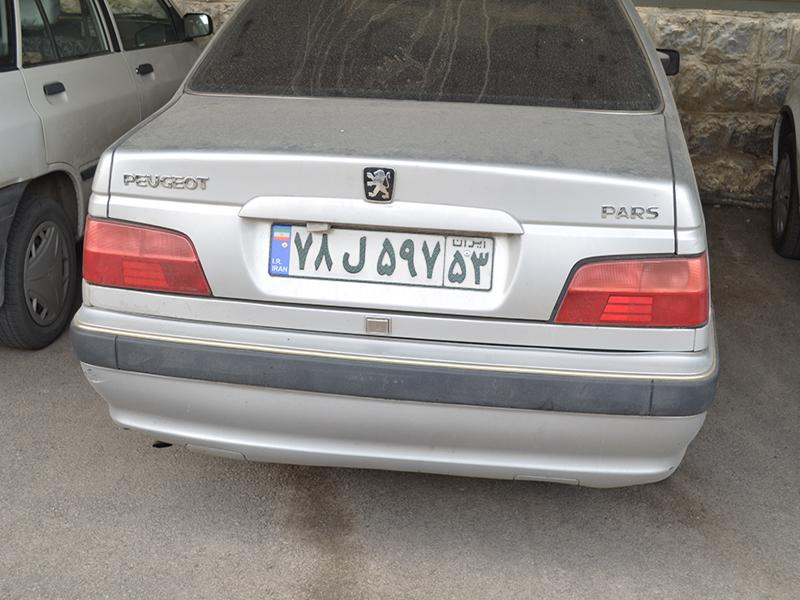Plate: (271, 223, 496, 291)
